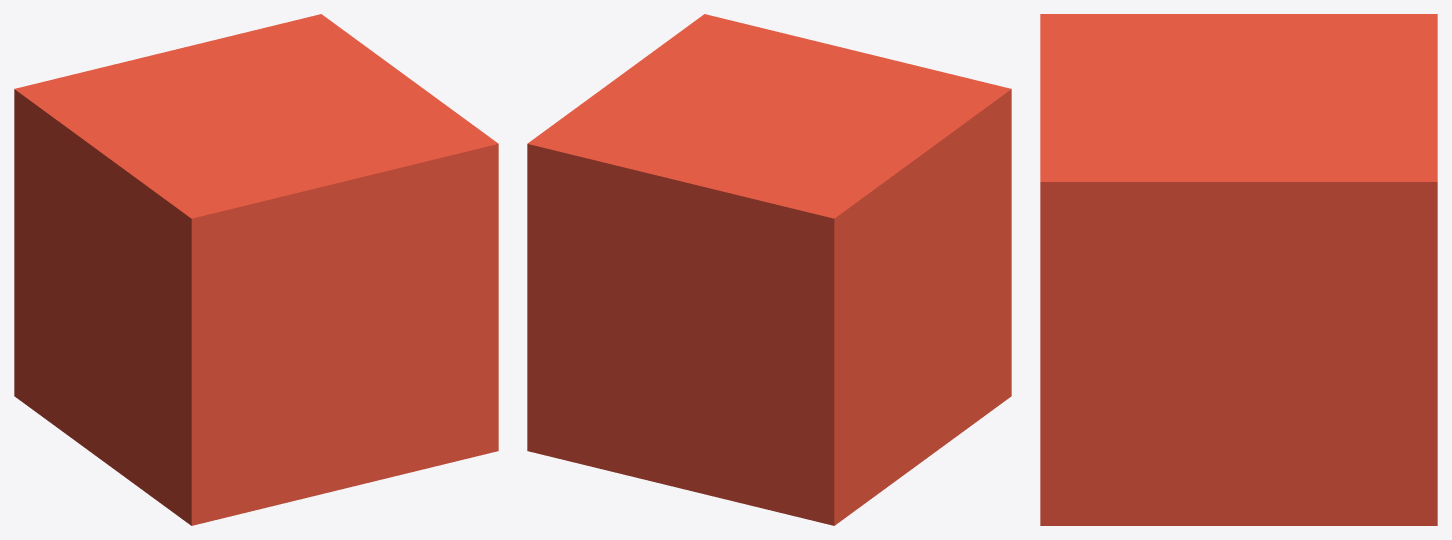
The model's file is Roof Middle.fbx.
3 renders of one model, left to right at view 1: azimuth 30°, elevation 25°; view 2: azimuth 150°, elevation 25°; view 3: azimuth 270°, elevation 25°, orthographic. The views are drawn at different scales.
Parts seen in each view (by area): view 1: Middle; view 2: Middle; view 3: Middle.
Part boxes in pixels (bbox=[...]): Middle: bbox=[14, 14, 498, 525]; Middle: bbox=[527, 14, 1011, 525]; Middle: bbox=[1040, 14, 1437, 525].
Bounding box in the file's own units: 200 × 191 × 200.
